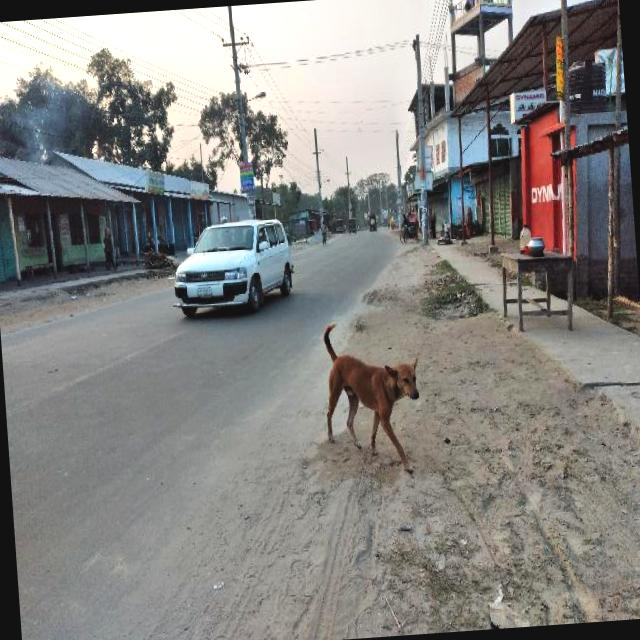car: (163, 215, 303, 324)
motorcycle: (396, 208, 418, 242), (367, 213, 377, 234), (334, 216, 343, 234), (347, 216, 355, 234)
truck: (388, 207, 407, 230)
